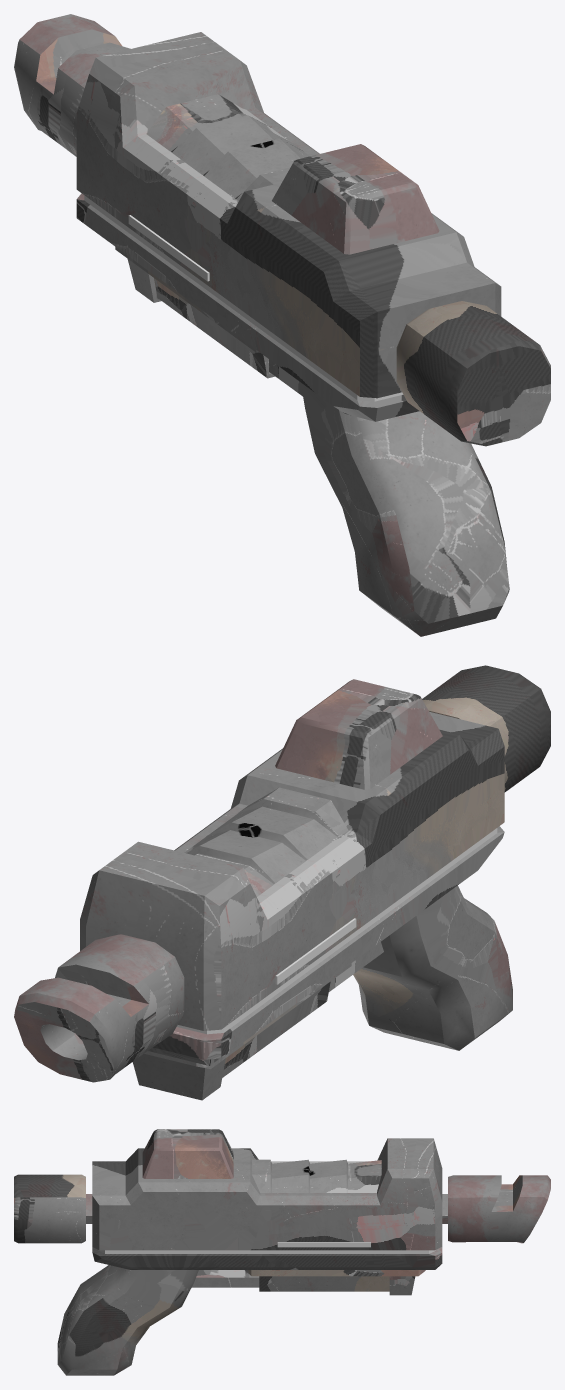
File: MainGun.fbx
The picture shows the model from 3 angles, top to bottom: view 1: azimuth 30°, elevation 25°; view 2: azimuth 150°, elevation 25°; view 3: azimuth 270°, elevation 25°; orthographic projection. The views are drawn at different scales.
Parts seen in each view (by area): view 1: MainGun; view 2: MainGun; view 3: MainGun.
Part boxes in pixels (bbox=[...]): MainGun: bbox=[14, 14, 550, 636]; MainGun: bbox=[14, 665, 550, 1100]; MainGun: bbox=[14, 1129, 550, 1375].
Bounding box in the file's own units: 25 × 62.84 × 135.
